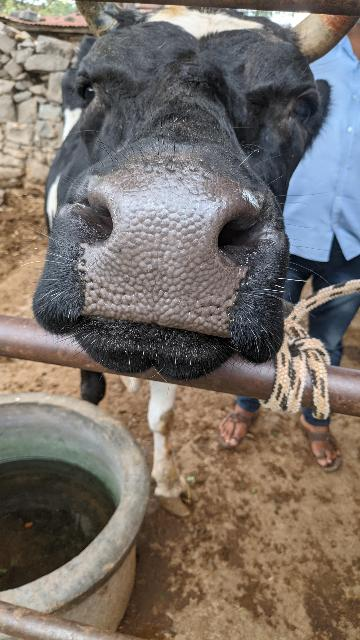Muzzle: (81, 175, 243, 332)
